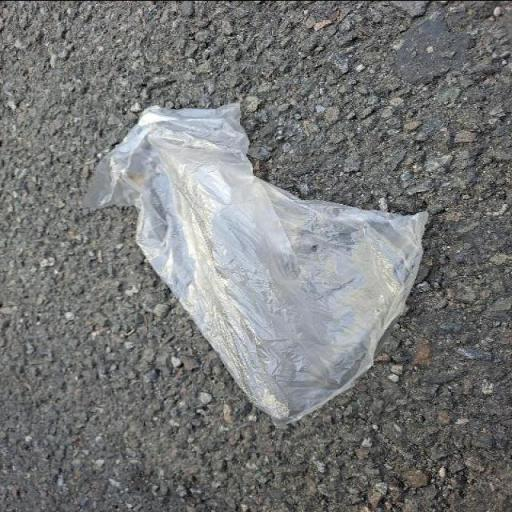plastic-bag: (77, 100, 432, 428)
